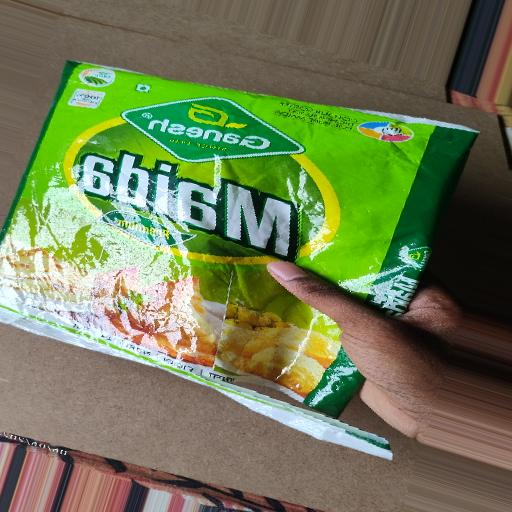Ganesh Maida: (0, 55, 512, 476)
